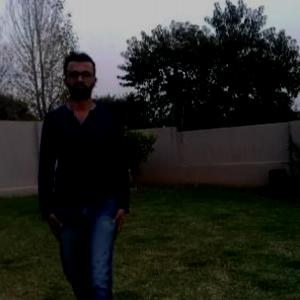follow: (44, 55, 123, 299)
